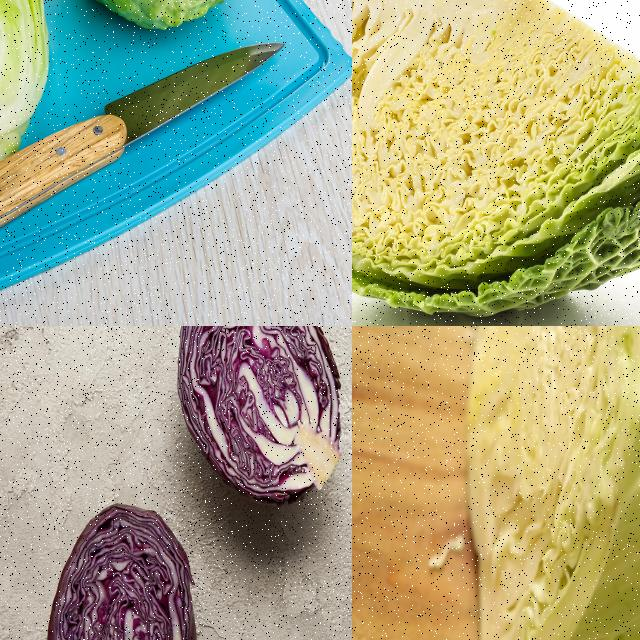cabbage: (352, 0, 639, 325), (459, 326, 639, 639), (175, 326, 345, 511), (43, 495, 196, 639)
